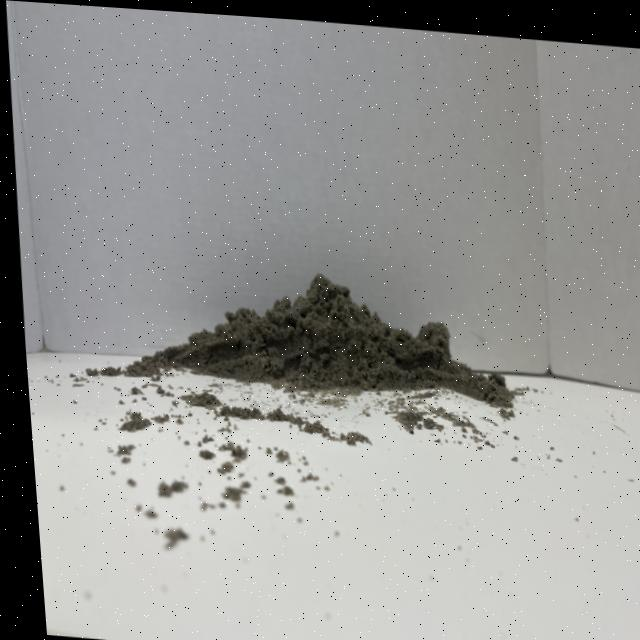sand: (144, 244, 484, 407)
